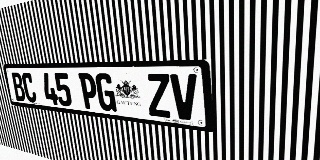4: (41, 73, 59, 105)
5: (54, 73, 73, 107)
B: (11, 72, 26, 102)
C: (21, 73, 37, 103)
G: (95, 73, 117, 112)
P: (78, 73, 99, 110)
V: (170, 74, 198, 121)
Z: (146, 74, 172, 118)
